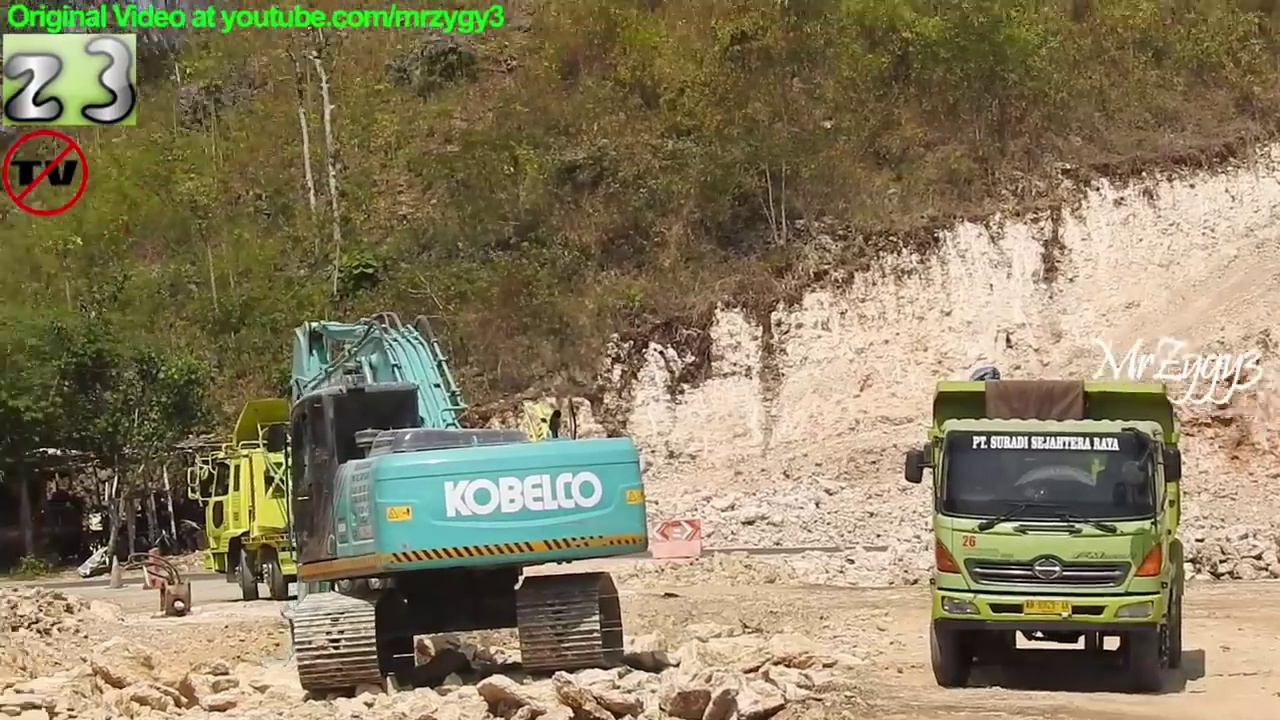excavator: (265, 309, 655, 696)
truck: (899, 374, 1192, 695), (177, 390, 595, 605)
